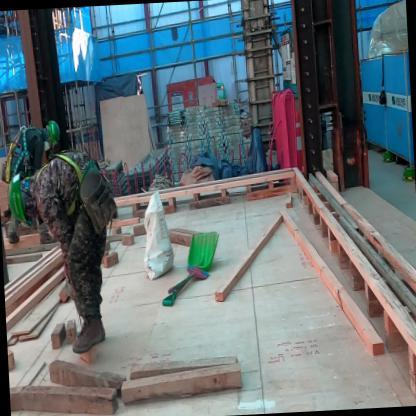Helmet: (8, 166, 29, 231)
safety-shoe: (64, 309, 116, 363)
